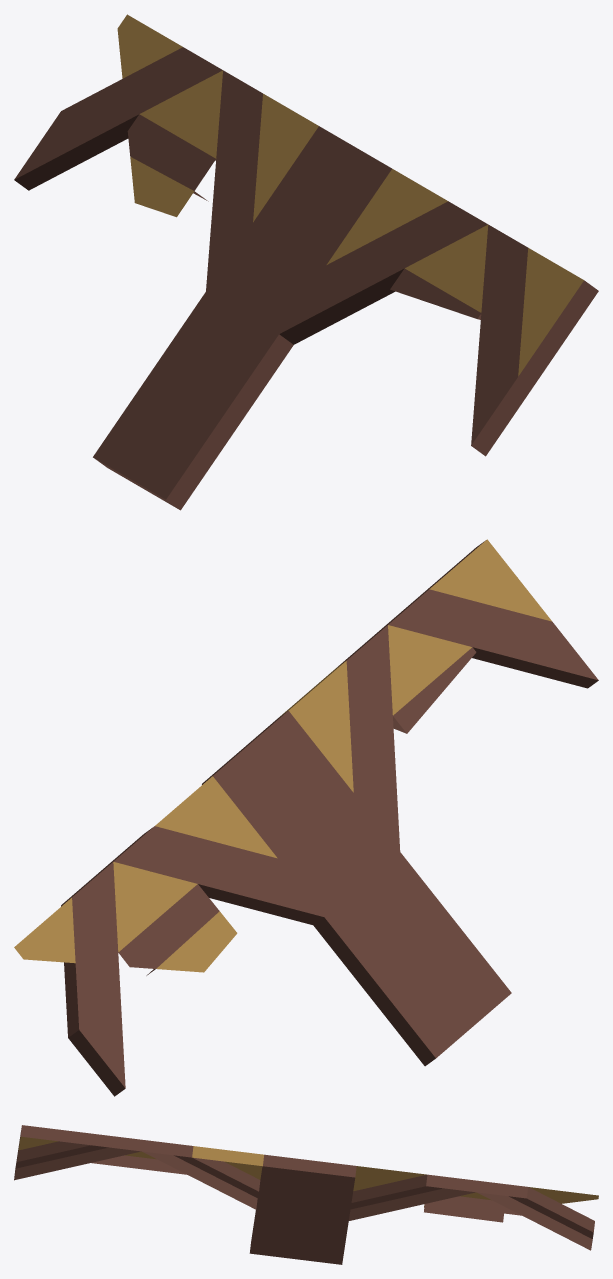
Rendered from Parquet_Broken02.fbx.
3 views of the same model, one above another, from view 1: azimuth 30°, elevation 25°; view 2: azimuth 150°, elevation 25°; view 3: azimuth 270°, elevation 25° (orthographic). The views are drawn at different scales.
Visible parts, largest first — view 1: Cube.002; view 2: Cube.002; view 3: Cube.002.
Part boxes in pixels (x1,y1,x2,y2): Cube.002: [14, 14, 598, 510]; Cube.002: [14, 539, 598, 1096]; Cube.002: [14, 1125, 598, 1264].
Bounding box in the file's own units: 54.38 × 65.7 × 176.
